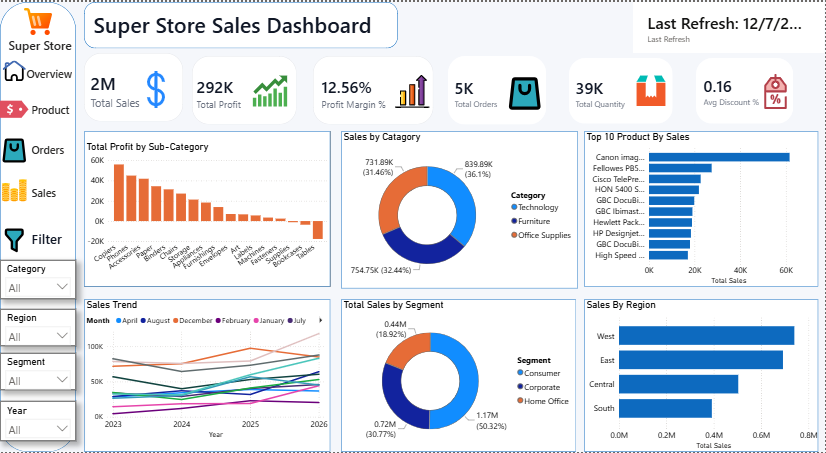

The page's visual inventory and layout, read from the dashboard file:
{"tool":"powerbi","page":{"name":"Page 1","canvas":[1650,900],"ordinal":0},"visuals":[{"type":"shape","box":[168.5,101.9,198.1,137],"z":0},{"type":"shape","box":[625.9,107.4,240.7,137],"z":1000},{"type":"shape","box":[896.3,107.4,196.3,137],"z":2000},{"type":"shape","box":[1137,113,207.4,131.5],"z":3000},{"type":"shape","box":[383.3,107.4,209.3,137],"z":4000},{"type":"shape","box":[1168.5,594.4,468.5,305.6],"z":5000},{"type":"shape","box":[1168.5,257.4,468.5,311.1],"z":6000},{"type":"shape","box":[681.5,594.4,470.4,305.6],"z":7000},{"type":"shape","box":[681.5,257.4,474.1,314.8],"z":8000},{"type":"shape","box":[168.5,594.4,492.6,305.6],"z":10000},{"type":"shape","box":[168.5,257.4,492.6,311.1],"z":11000},{"type":"shape","box":[0,0,151.9,900],"z":12000},{"type":"shape","box":[168.5,0,627.8,92.6],"z":13000},{"type":"cardVisual","fields":{"Data":["samplesuperstore.Total Sales"]},"box":[151.9,120.4,159.3,111.1],"z":14000},{"type":"cardVisual","fields":{"Data":["samplesuperstore.Total Profit"]},"box":[364.8,120.4,153.7,124.1],"z":15000},{"type":"cardVisual","fields":{"Data":["samplesuperstore.Total Orders"]},"box":[879.6,118.5,157.4,125.9],"z":16000},{"type":"cardVisual","fields":{"Data":["samplesuperstore.Total Quantity"]},"box":[1122.2,124.1,163,114.8],"z":17000},{"type":"cardVisual","fields":{"Data":["samplesuperstore.Profit Margin %"]},"box":[614.8,127.8,192.6,105.6],"z":18000},{"type":"lineChart","title":"Sales Trend","fields":{"Category":["samplesuperstore.Order Date.Variation.Date Hierarchy.Year","samplesuperstore.Order Date.Variation.Date Hierarchy.Month"],"Y":["samplesuperstore.Total Sales"],"Series":["samplesuperstore.Month Name"]},"box":[168.5,594.4,492.6,283.3],"z":19000},{"type":"donutChart","title":"Sales by Catagory ","fields":{"Category":["samplesuperstore.Category"],"Y":["samplesuperstore.Total Sales"]},"box":[681.5,257.4,474.1,314.8],"z":20000},{"type":"barChart","title":"Sales By Region","fields":{"Category":["samplesuperstore.Region"],"Y":["samplesuperstore.Total Sales"]},"box":[1168.5,594.4,472.2,305.6],"z":21000},{"type":"clusteredBarChart","title":"Top 10 Product By Sales","fields":{"Category":["samplesuperstore.Product Name"],"Y":["samplesuperstore.Total Sales"]},"box":[1168.5,257.4,468.5,313],"z":22000},{"type":"columnChart","fields":{"Category":["samplesuperstore.Sub-Category"],"Y":["samplesuperstore.Total Profit"]},"box":[168.5,277.8,492.6,281.5],"z":23000},{"type":"slicer","fields":{"Values":["samplesuperstore.Year"]},"box":[0,798.1,151.9,79.6],"z":24000},{"type":"slicer","fields":{"Values":["samplesuperstore.Region"]},"box":[0,614.8,151.9,74.1],"z":25000},{"type":"slicer","fields":{"Values":["samplesuperstore.Category"]},"box":[0,516.7,151.9,77.8],"z":26000},{"type":"slicer","fields":{"Values":["samplesuperstore.Segment"]},"box":[0,701.9,151.9,74.1],"z":27000},{"type":"donutChart","fields":{"Category":["samplesuperstore.Segment"],"Y":["samplesuperstore.Total Sales"]},"box":[681.5,594.4,470.4,305.6],"z":28000},{"type":"textbox","box":[181.5,0,614.8,77.8],"z":29000},{"type":"textbox","box":[57.4,450,94.4,57.4],"z":30000},{"type":"cardVisual","fields":{"Data":["samplesuperstore.Last Refresh"]},"box":[1266.7,0,383.3,101.9],"z":30001},{"type":"image","box":[255.6,137,111.1,74.1],"z":30002},{"type":"image","box":[488.9,137,103.7,79.6],"z":30003},{"type":"image","box":[770.4,144.4,109.3,68.5],"z":30004},{"type":"image","box":[994.4,144.4,111.1,77.8],"z":30005},{"type":"image","box":[1225.9,144.4,151.9,66.7],"z":30006},{"type":"image","box":[0,92.6,57.4,90.7],"z":30007},{"type":"shape","box":[1392.6,113,194.4,131.5],"z":30008},{"type":"cardVisual","fields":{"Data":["samplesuperstore.Discount %"]},"box":[1377.8,120.4,181.5,114.8],"z":30009},{"type":"image","box":[1516.7,140.7,70.4,77.8],"z":30010},{"type":"textbox","box":[42.6,124.1,125.9,59.3],"z":30011},{"type":"textbox","box":[13,64.8,155.6,42.6],"z":30012},{"type":"image","box":[48.1,0,55.6,77.8],"z":30013},{"type":"image","box":[0,172.2,57.4,85.2],"z":30014},{"type":"textbox","box":[57.4,196.3,124.1,48.1],"z":30015},{"type":"image","box":[0,257.4,57.4,77.8],"z":30016},{"type":"textbox","box":[57.4,275.9,94.4,59.3],"z":30017},{"type":"image","box":[0,335.2,57.4,81.5],"z":30018},{"type":"textbox","box":[57.4,363,94.4,63],"z":30019},{"type":"image","box":[0,435.2,57.4,81.5],"z":30020}]}

Visuals, with their boxes on the page's 1650x900 design canvas (x1, y1, x2, y2). These are canvas units, not pixel positions in the 826x453 screenshot, which may show the page scaled, cropped or inside an application window:
shape: [168, 102, 367, 239]
shape: [626, 107, 867, 244]
shape: [896, 107, 1093, 244]
shape: [1137, 113, 1344, 244]
shape: [383, 107, 593, 244]
shape: [1168, 594, 1637, 900]
shape: [1168, 257, 1637, 568]
shape: [682, 594, 1152, 900]
shape: [682, 257, 1156, 572]
shape: [168, 594, 661, 900]
shape: [168, 257, 661, 568]
shape: [0, 0, 152, 900]
shape: [168, 0, 796, 93]
cardVisual - samplesuperstore.Total Sales: [152, 120, 311, 232]
cardVisual - samplesuperstore.Total Profit: [365, 120, 518, 244]
cardVisual - samplesuperstore.Total Orders: [880, 118, 1037, 244]
cardVisual - samplesuperstore.Total Quantity: [1122, 124, 1285, 239]
cardVisual - samplesuperstore.Profit Margin %: [615, 128, 807, 233]
"Sales Trend" lineChart: [168, 594, 661, 878]
"Sales by Catagory " donutChart: [682, 257, 1156, 572]
"Sales By Region" barChart: [1168, 594, 1641, 900]
"Top 10 Product By Sales" clusteredBarChart: [1168, 257, 1637, 570]
columnChart - samplesuperstore.Sub-Category x samplesuperstore.Total Profit: [168, 278, 661, 559]
slicer - samplesuperstore.Year: [0, 798, 152, 878]
slicer - samplesuperstore.Region: [0, 615, 152, 689]
slicer - samplesuperstore.Category: [0, 517, 152, 594]
slicer - samplesuperstore.Segment: [0, 702, 152, 776]
donutChart - samplesuperstore.Segment x samplesuperstore.Total Sales: [682, 594, 1152, 900]
textbox: [182, 0, 796, 78]
textbox: [57, 450, 152, 507]
cardVisual - samplesuperstore.Last Refresh: [1267, 0, 1650, 102]
image: [256, 137, 367, 211]
image: [489, 137, 593, 217]
image: [770, 144, 880, 213]
image: [994, 144, 1106, 222]
image: [1226, 144, 1378, 211]
image: [0, 93, 57, 183]
shape: [1393, 113, 1587, 244]
cardVisual - samplesuperstore.Discount %: [1378, 120, 1559, 235]
image: [1517, 141, 1587, 218]
textbox: [43, 124, 168, 183]
textbox: [13, 65, 169, 107]
image: [48, 0, 104, 78]
image: [0, 172, 57, 257]
textbox: [57, 196, 182, 244]
image: [0, 257, 57, 335]
textbox: [57, 276, 152, 335]
image: [0, 335, 57, 417]
textbox: [57, 363, 152, 426]
image: [0, 435, 57, 517]
